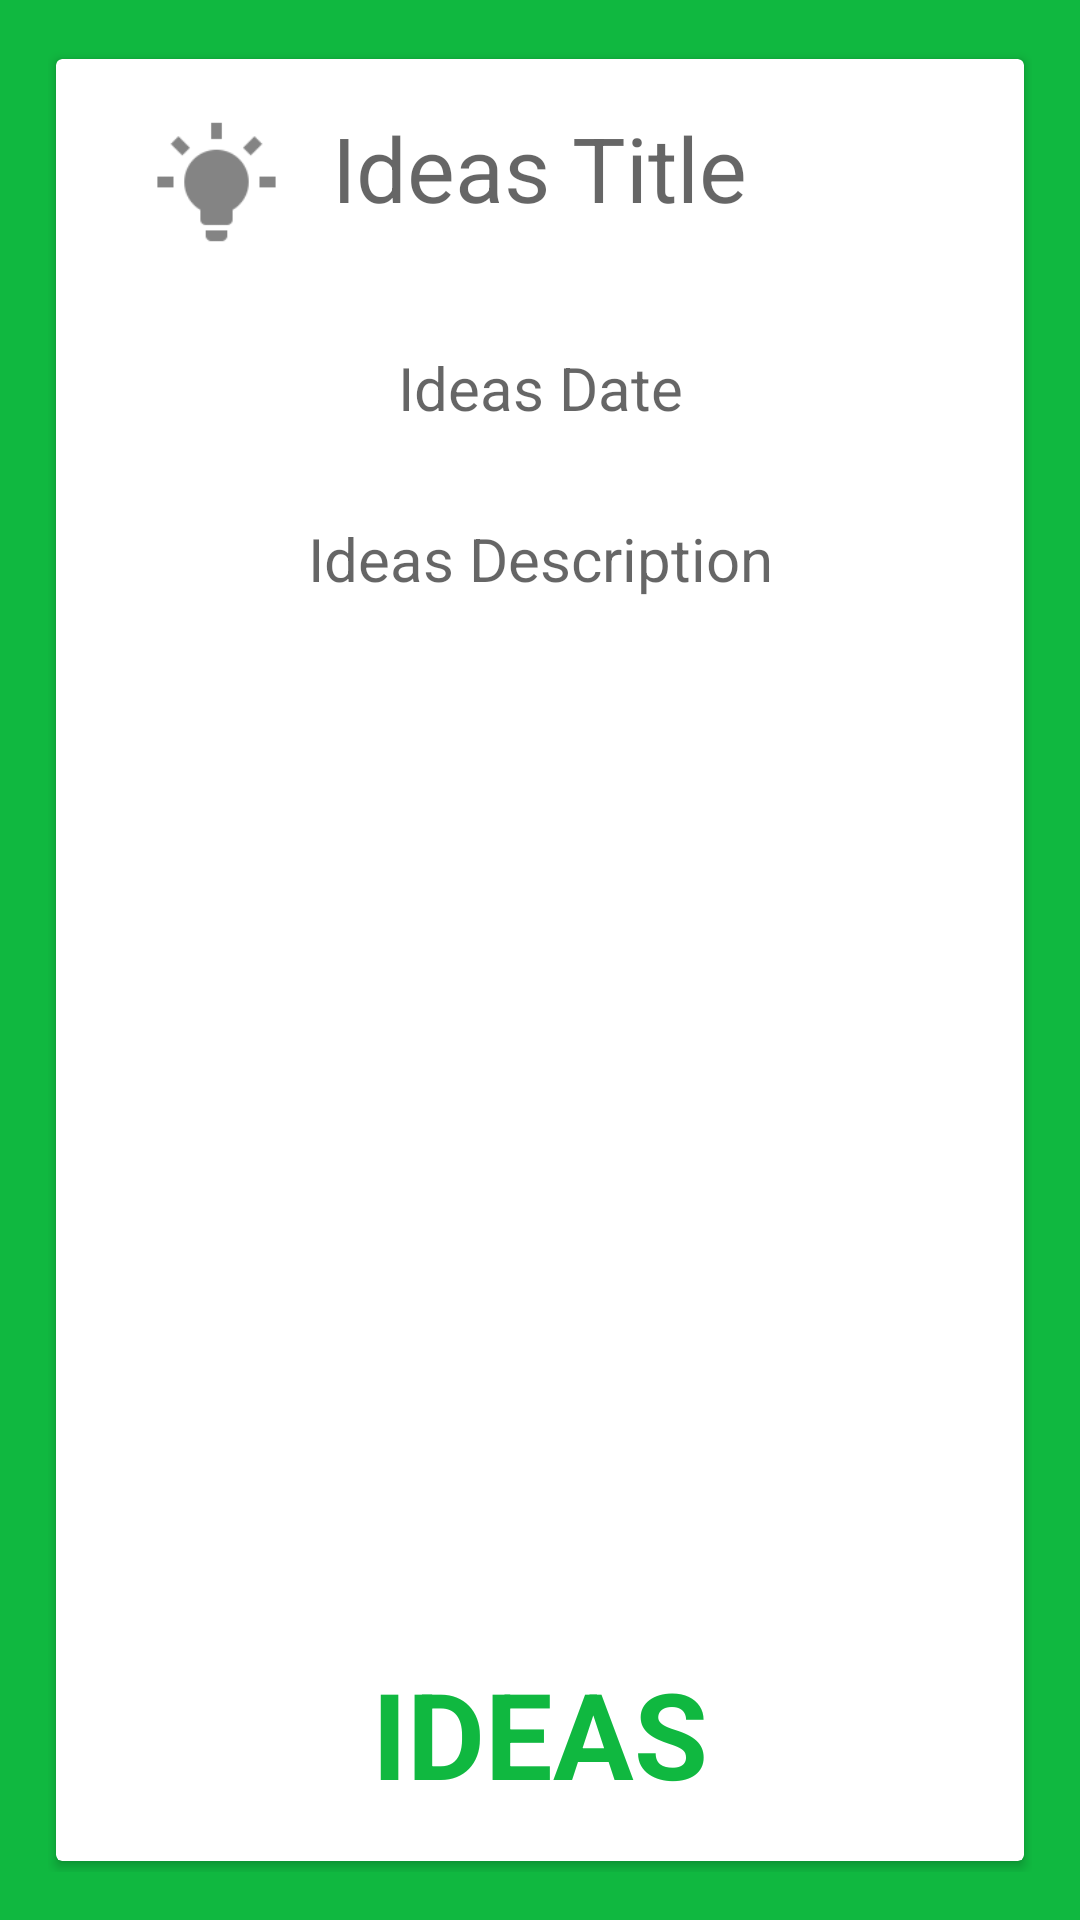

Icon bounding boxes for this 1080px x 1920px phone screenshot, format region(x1, y1, x2, y2):
lightbulb on: region(157, 122, 276, 242)
